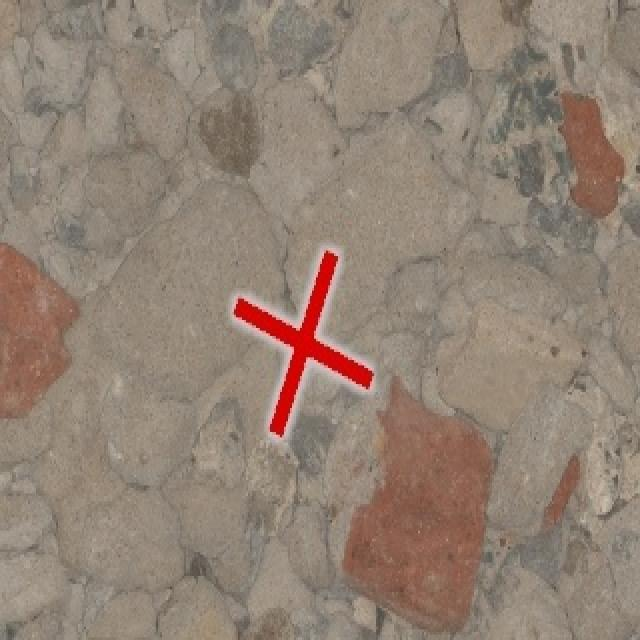x_marker: (233, 249, 371, 436)
